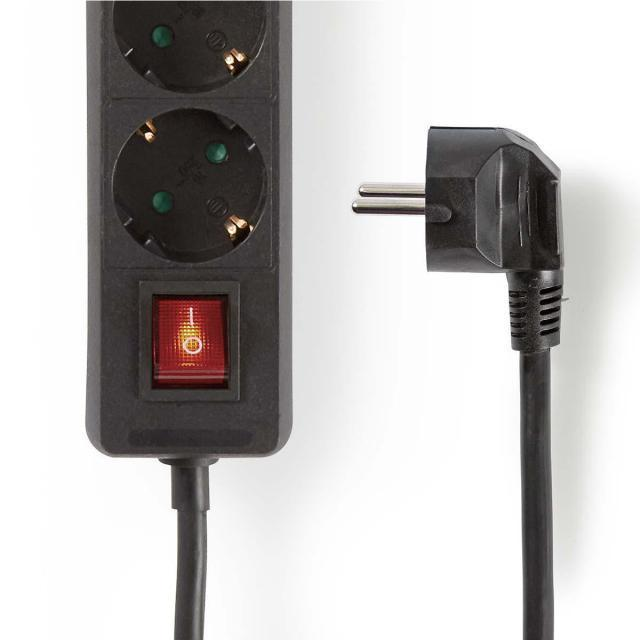typeb: (0, 0, 356, 536)
